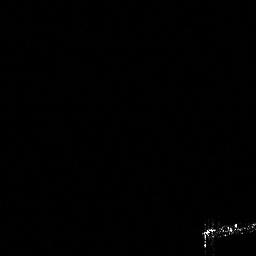ship: (197, 219, 256, 252)
